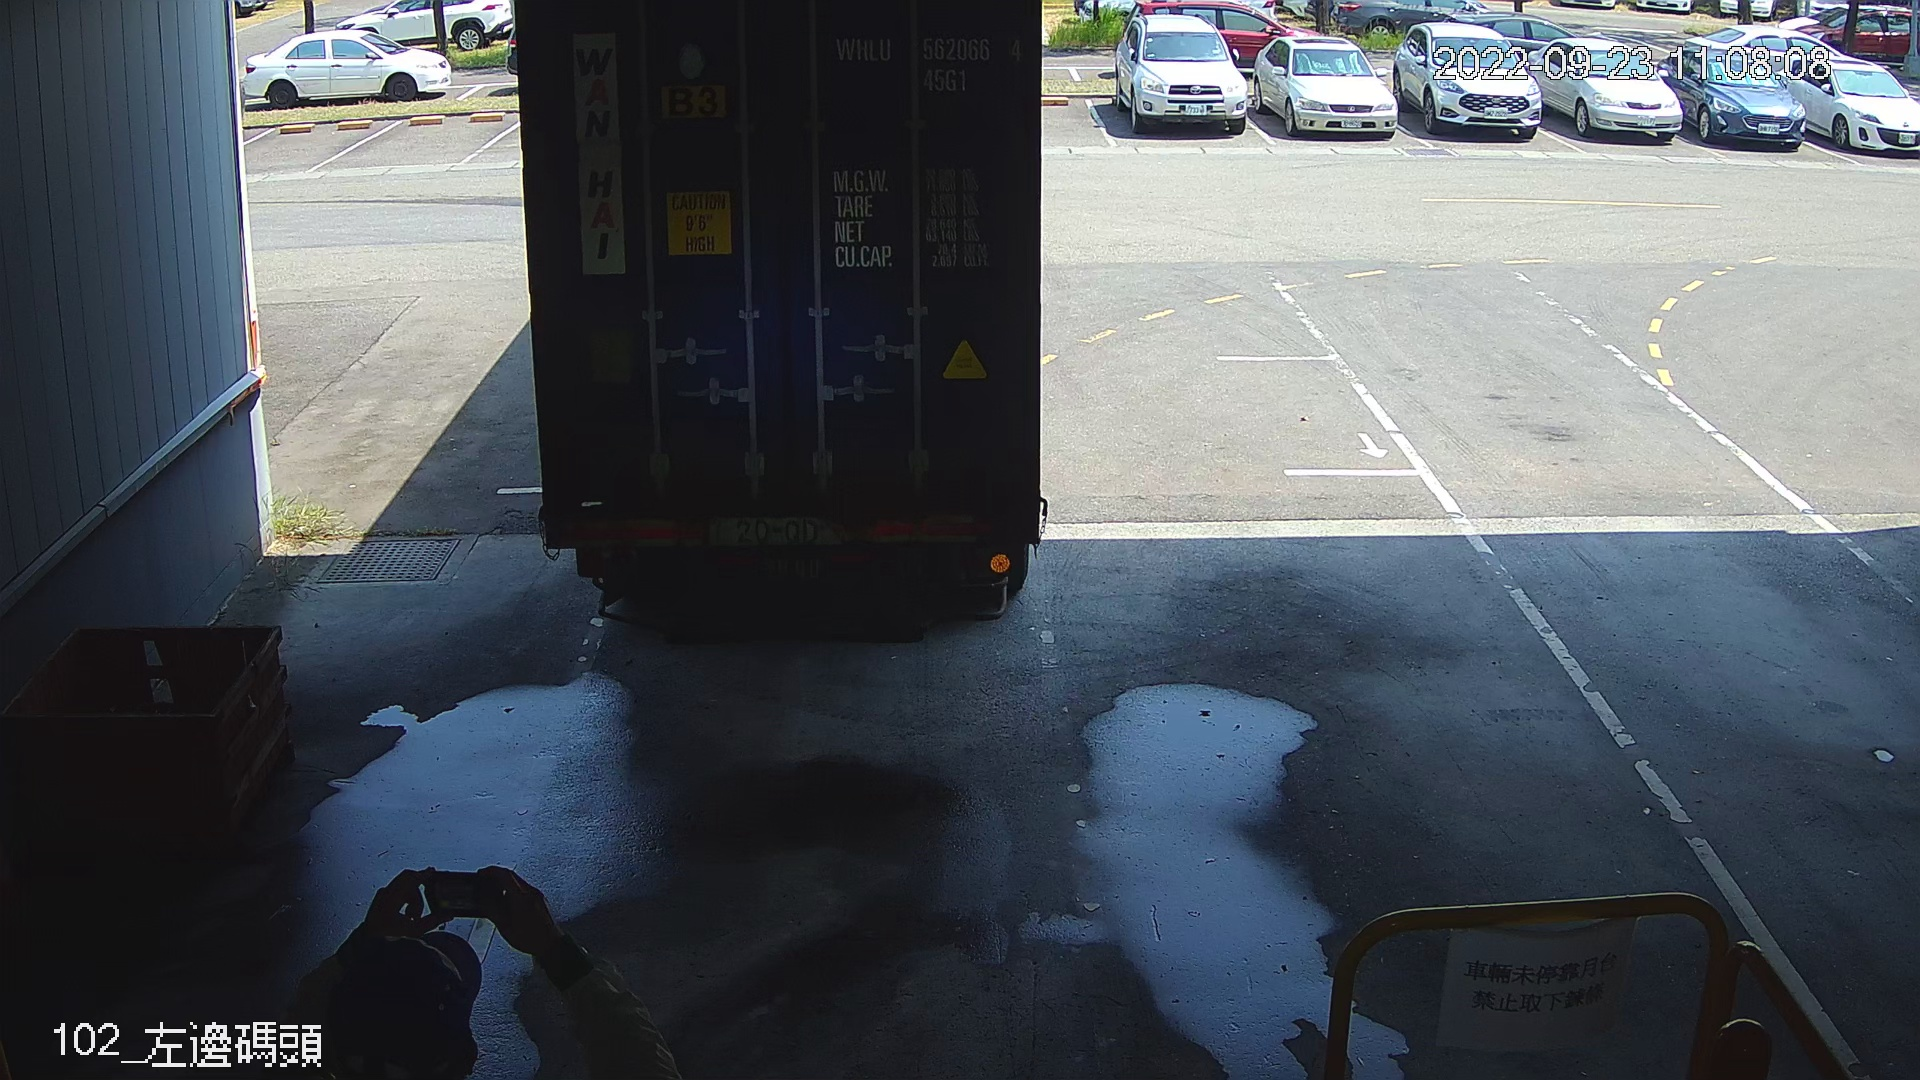container: (825, 26, 1029, 102)
